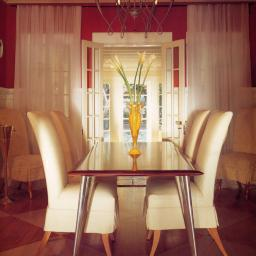Puerta: (82, 40, 105, 138), (162, 42, 185, 136)
